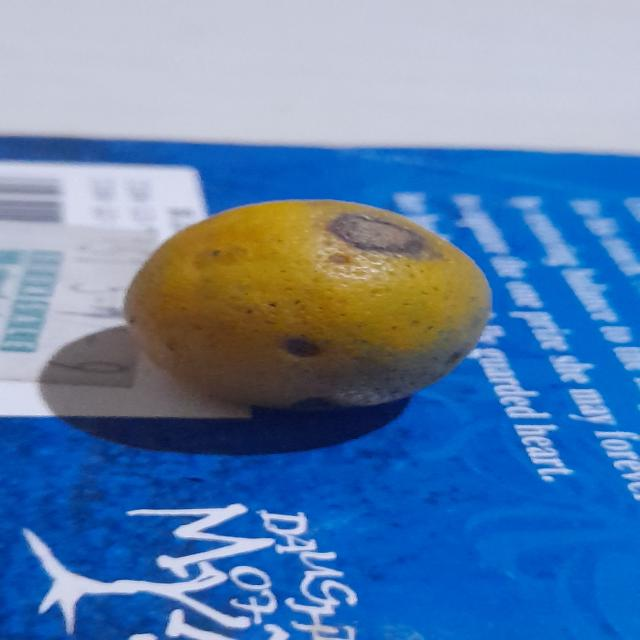black spot: (121, 196, 492, 423)
